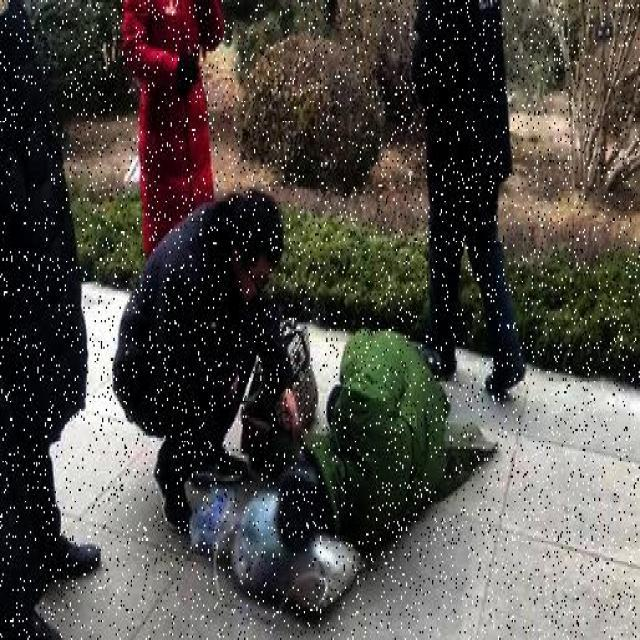fall: (272, 326, 460, 544)
